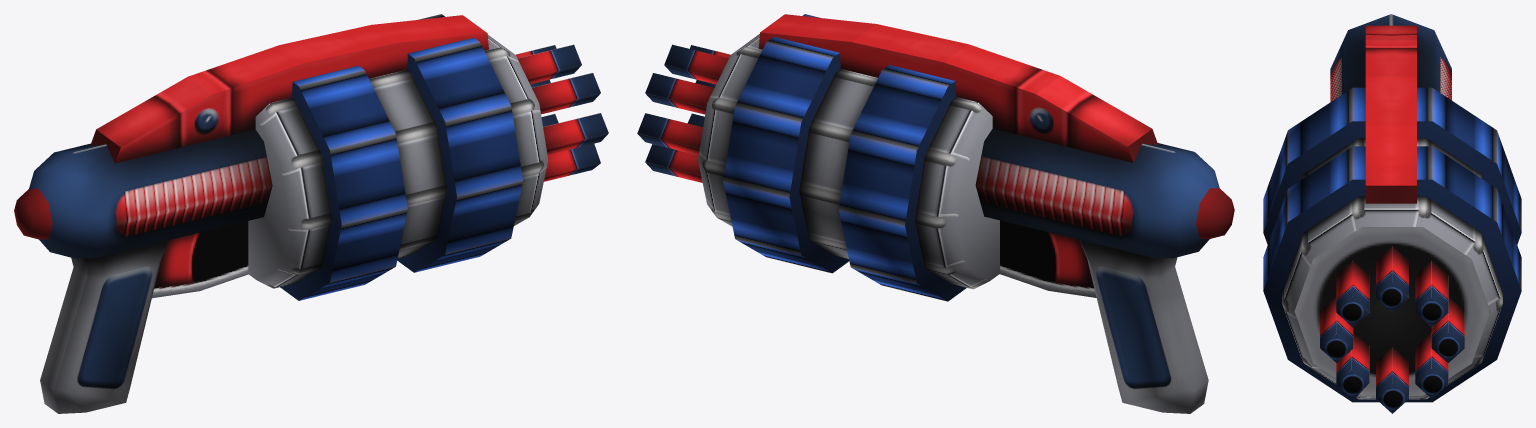
The model's file is sung phun nuoc 1.FBX.
3 renders of one model, left to right at view 1: azimuth 30°, elevation 25°; view 2: azimuth 150°, elevation 25°; view 3: azimuth 270°, elevation 25°, orthographic. The views are drawn at different scales.
Parts seen in each view (by area): view 1: Object153, Object154; view 2: Object153, Object154; view 3: Object153, Object154.
Part boxes in pixels (<box>): Object153: <box>14,14,548,413</box>; Object154: <box>516,44,608,181</box>; Object153: <box>698,14,1234,413</box>; Object154: <box>637,44,730,182</box>; Object153: <box>1263,14,1521,402</box>; Object154: <box>1320,246,1464,413</box>.
Bounding box in the file's own units: 56.05 × 28.51 × 21.72.
